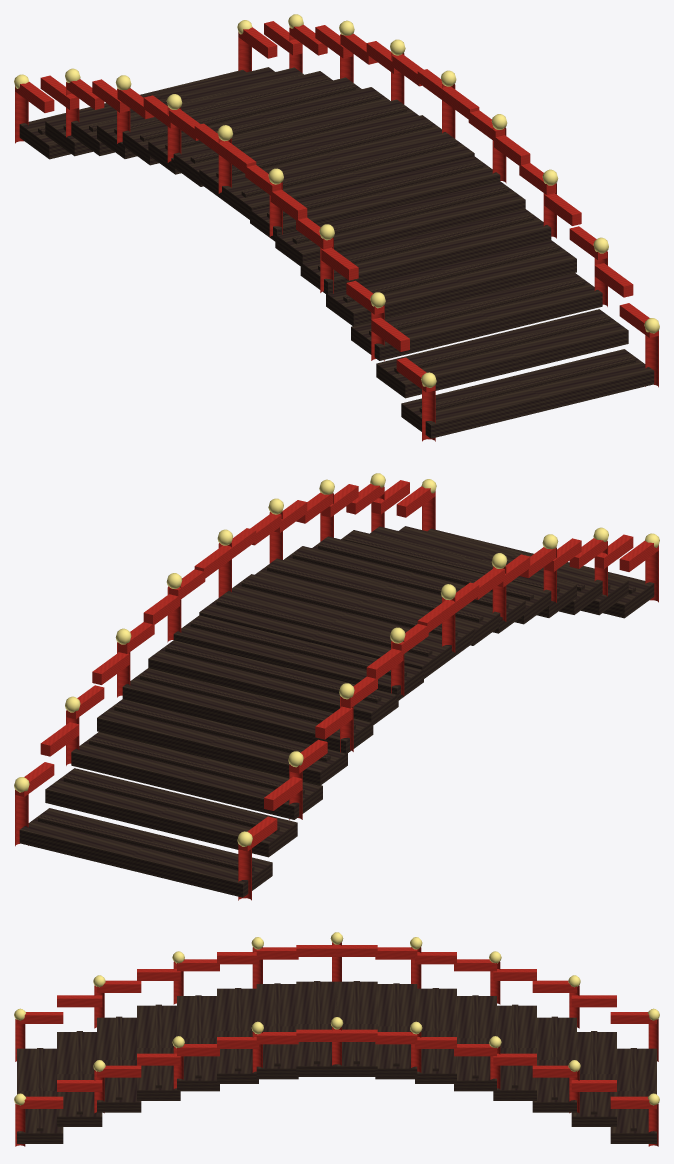
File: asian_moon_bridge.glb
3 views of the same model, one above another, from view 1: azimuth 30°, elevation 25°; view 2: azimuth 150°, elevation 25°; view 3: azimuth 270°, elevation 25° (orthographic). The views are drawn at different scales.
Visible parts, largest first — view 1: ModelRoot; view 2: ModelRoot; view 3: ModelRoot.
Boxes of the visible parts, x1=… form: ModelRoot: x1=14, y1=14, x2=659, y2=441; ModelRoot: x1=14, y1=473, x2=659, y2=900; ModelRoot: x1=14, y1=932, x2=659, y2=1146.
Size of the model in its own units: 4.04 by 2.72 by 12.24.
3 materials, 2 textured.
